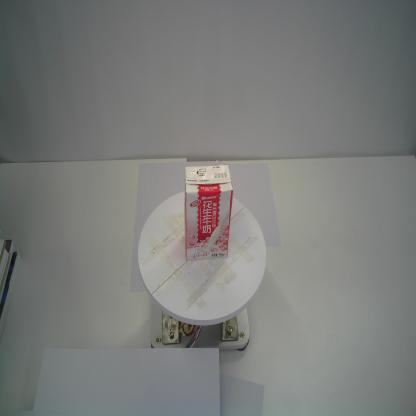Milk: (184, 165, 233, 260)
